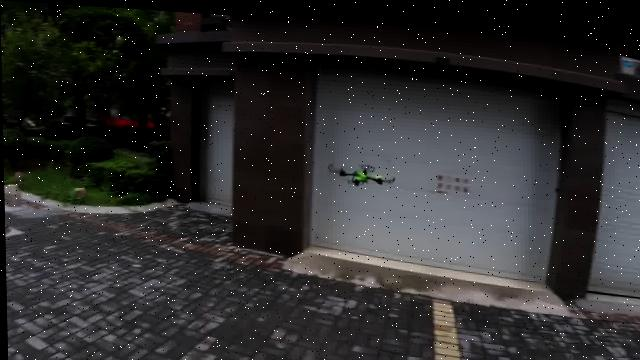drone: (324, 150, 393, 189)
